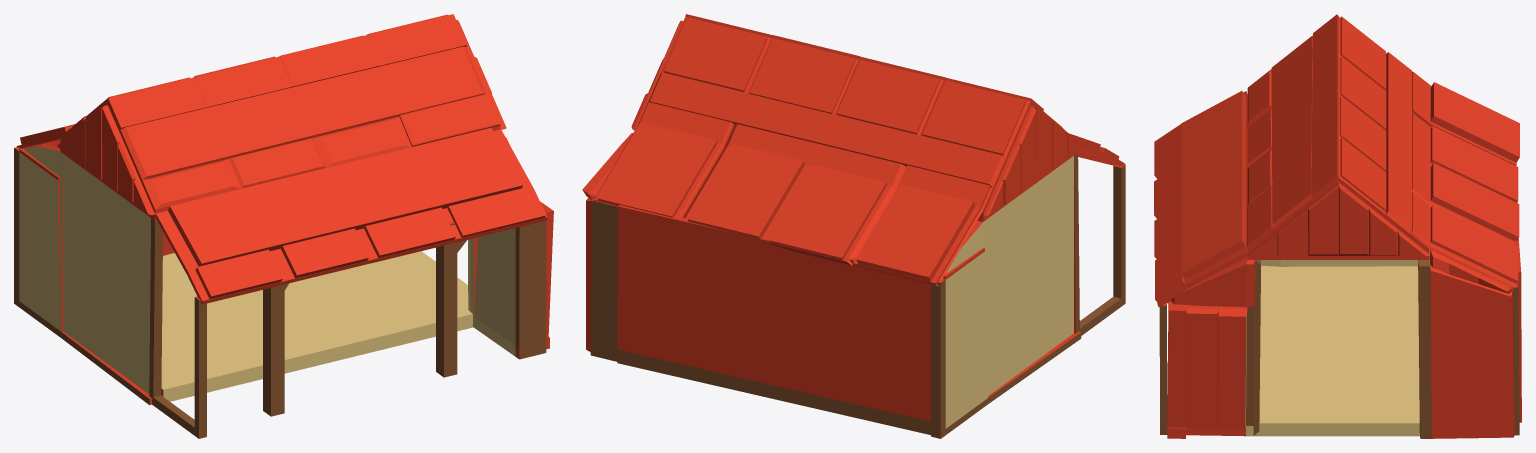
Rendered from house.fbx.
3 renders of one model, left to right at view 1: azimuth 30°, elevation 25°; view 2: azimuth 150°, elevation 25°; view 3: azimuth 270°, elevation 25°, orthographic. The views are drawn at different scales.
Visible parts, largest first — view 1: Cube; view 2: Cube; view 3: Cube.
Boxes of the visible parts, left/top/right/bottom form: Cube: left=14, top=14, right=553, bottom=438; Cube: left=582, top=14, right=1125, bottom=438; Cube: left=1154, top=14, right=1521, bottom=438.
Bounding box in the file's own units: 1008 × 723 × 912.
